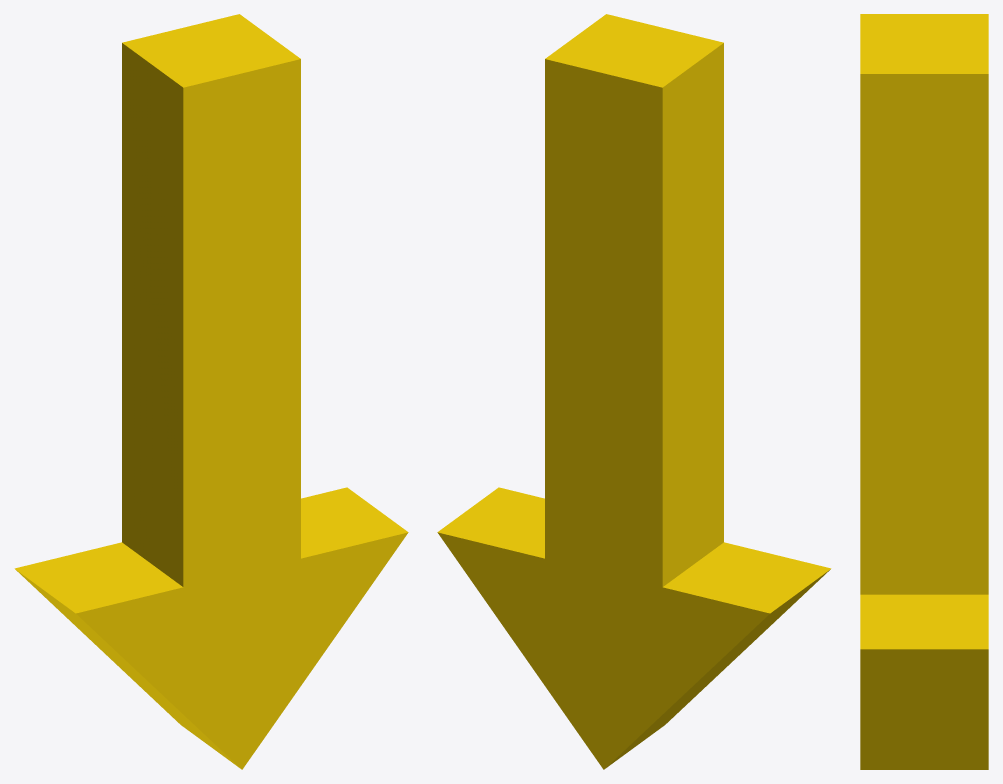
The model's file is hint_arrow.fbx.
3 views of the same model, side by side, from view 1: azimuth 30°, elevation 25°; view 2: azimuth 150°, elevation 25°; view 3: azimuth 270°, elevation 25° (orthographic). The views are drawn at different scales.
Visible parts, largest first — view 1: Arrow; view 2: Arrow; view 3: Arrow.
Part boxes in pixels (left/top/right/bottom): Arrow: left=14, top=14, right=408, bottom=769; Arrow: left=437, top=14, right=831, bottom=769; Arrow: left=860, top=14, right=988, bottom=769.
Bounding box in the file's own units: 250 × 500 × 80.
